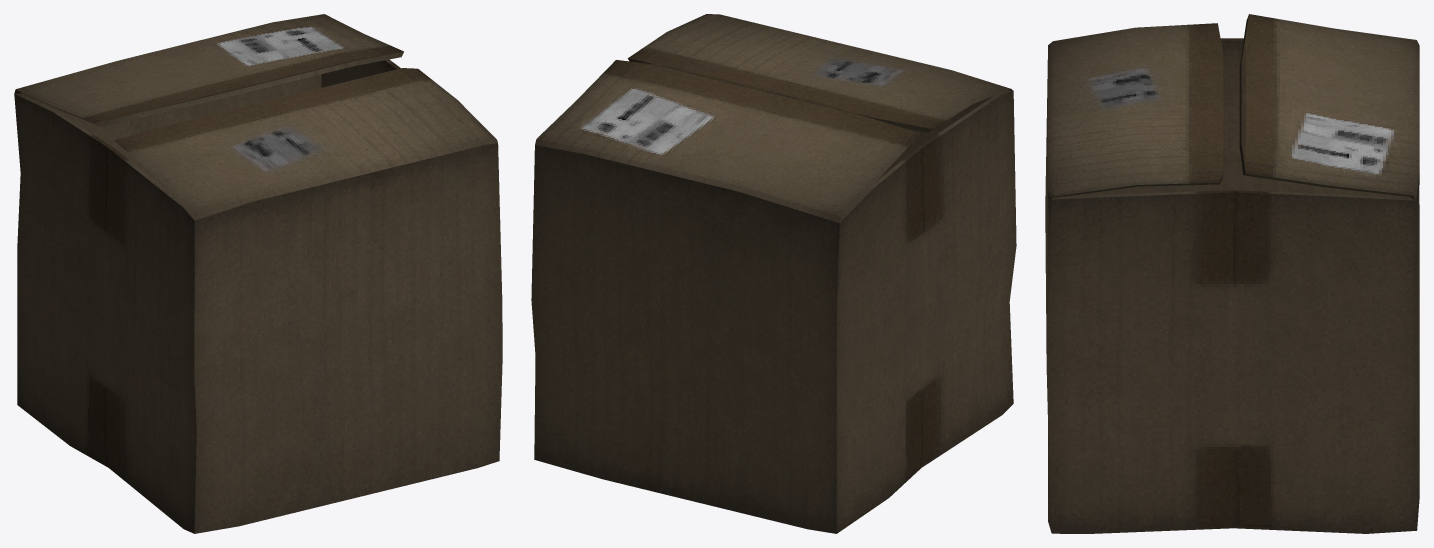
File: cardboard_box_2_1.glb
3 views of the same model, side by side, from view 1: azimuth 30°, elevation 25°; view 2: azimuth 150°, elevation 25°; view 3: azimuth 270°, elevation 25° (orthographic). The views are drawn at different scales.
Visible parts, largest first — view 1: cardboard_box_2_1; view 2: cardboard_box_2_1; view 3: cardboard_box_2_1.
Boxes of the visible parts, bbox=[...] form: cardboard_box_2_1: bbox=[14, 14, 502, 533]; cardboard_box_2_1: bbox=[531, 14, 1016, 533]; cardboard_box_2_1: bbox=[1045, 14, 1419, 533].
Bounding box in the file's own units: 0.7297 × 0.7775 × 0.7254.
1 material, 1 textured.
